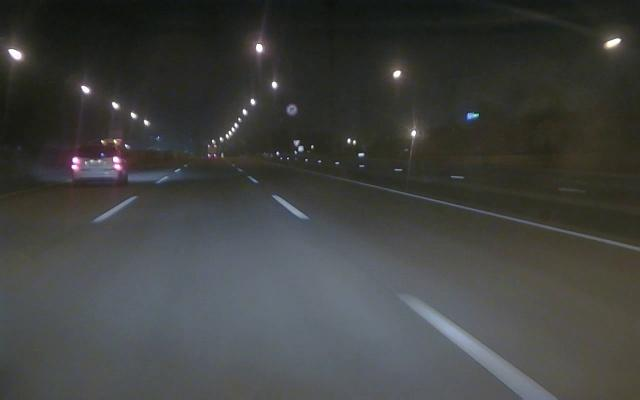lane: (268, 193, 559, 399), (395, 190, 640, 253), (85, 175, 172, 224)
